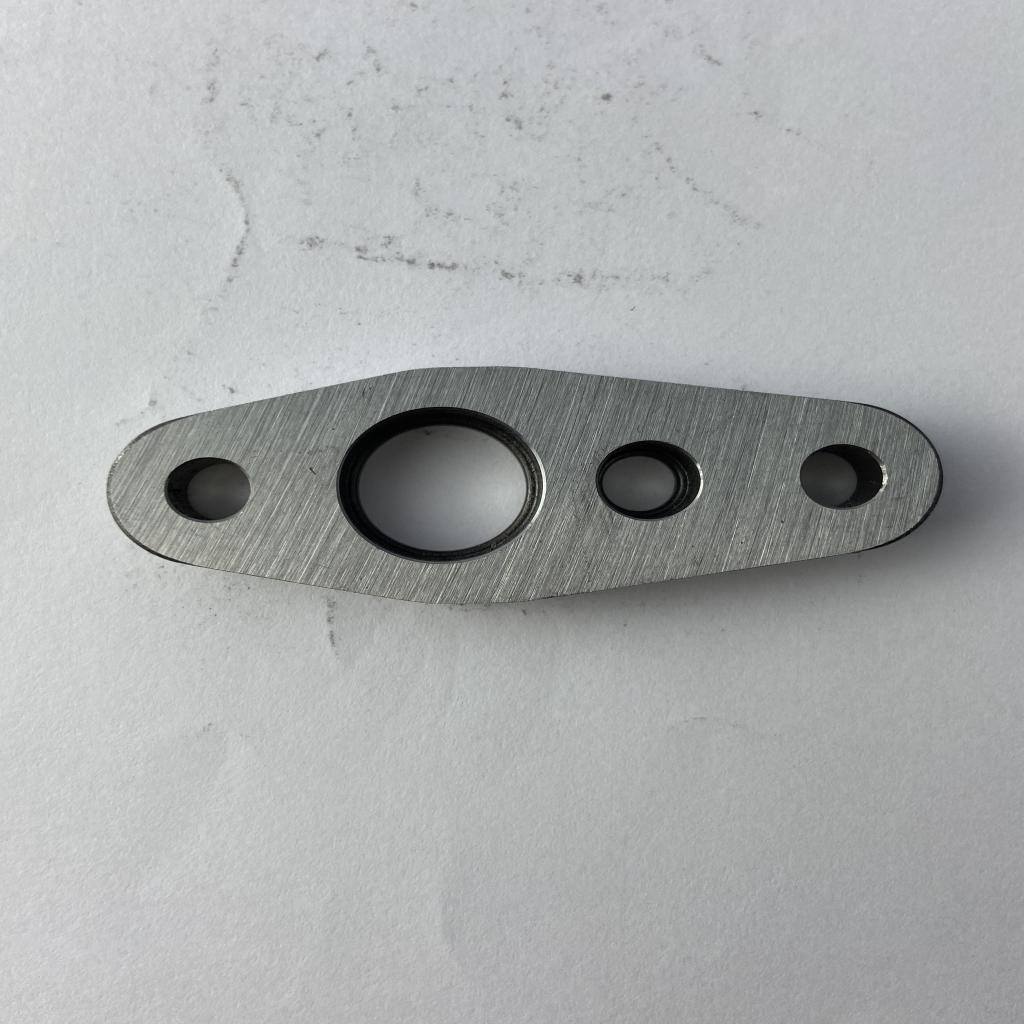chap: (308, 465, 320, 477)
